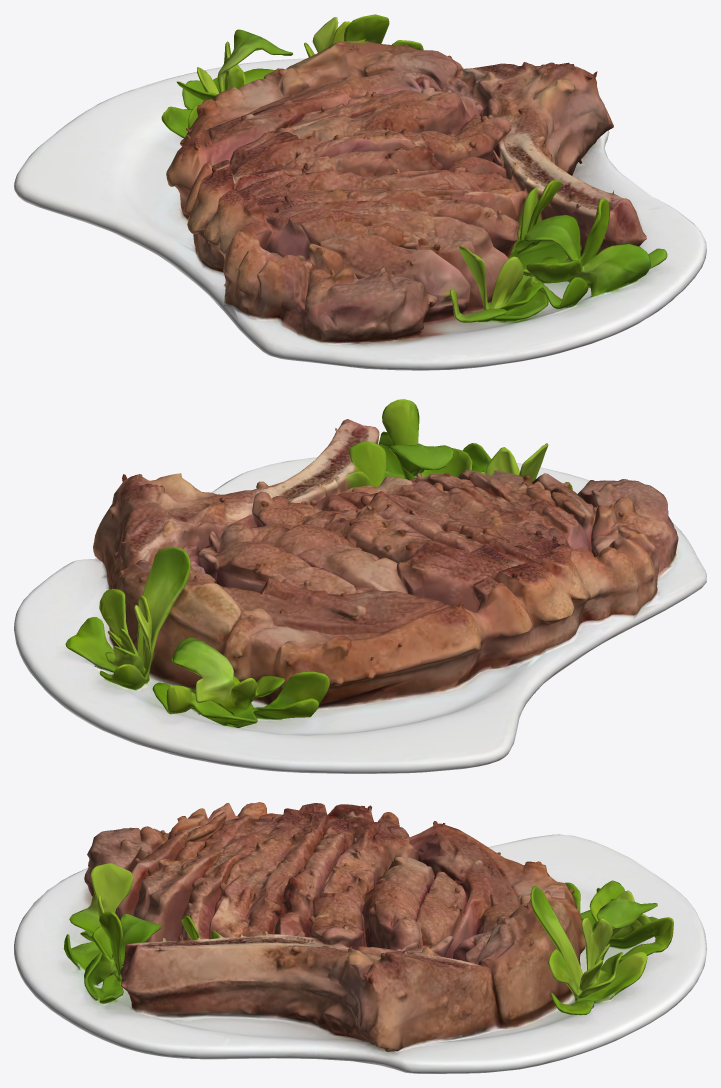
File: steak.glb
3 renders of one model, top to bottom at view 1: azimuth 30°, elevation 25°; view 2: azimuth 150°, elevation 25°; view 3: azimuth 270°, elevation 25°, orthographic. The views are drawn at different scales.
Visible parts, largest first — view 1: tripo_node_c0304dfb-ecfc-4798-b0f7-07d2ab66a9ae; view 2: tripo_node_c0304dfb-ecfc-4798-b0f7-07d2ab66a9ae; view 3: tripo_node_c0304dfb-ecfc-4798-b0f7-07d2ab66a9ae.
Boxes of the visible parts, left/top/right/bottom form: tripo_node_c0304dfb-ecfc-4798-b0f7-07d2ab66a9ae: left=14, top=14, right=706, bottom=370; tripo_node_c0304dfb-ecfc-4798-b0f7-07d2ab66a9ae: left=14, top=399, right=706, bottom=773; tripo_node_c0304dfb-ecfc-4798-b0f7-07d2ab66a9ae: left=14, top=802, right=706, bottom=1073.
Bounding box in the file's own units: 0.7759 × 0.1821 × 0.9799.
1 material, 1 textured.
